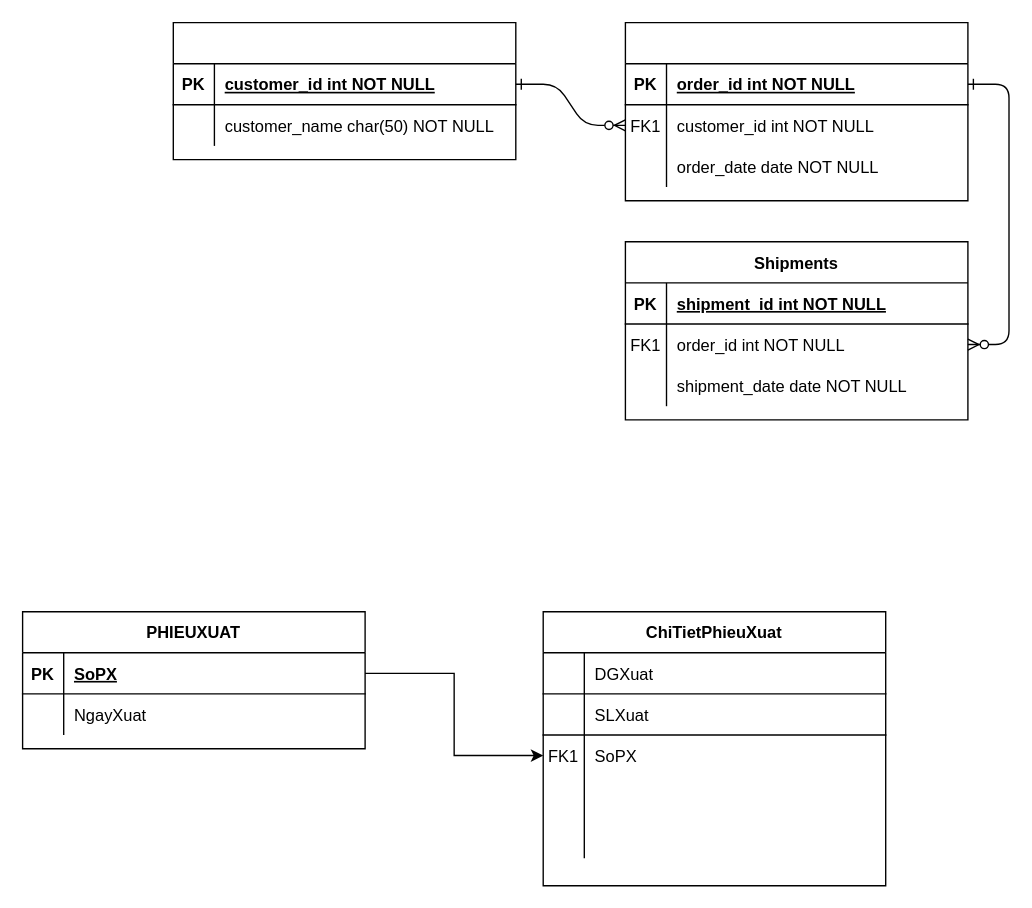
This 1032x908 diagram has some shape labels left out. The shapes that lost their labels are listed below. From the top down, each one's box as (x1, y1, x2, y2) in pixels, then its label:
(172, 21, 516, 160): Customers
(624, 21, 968, 201): Orders
